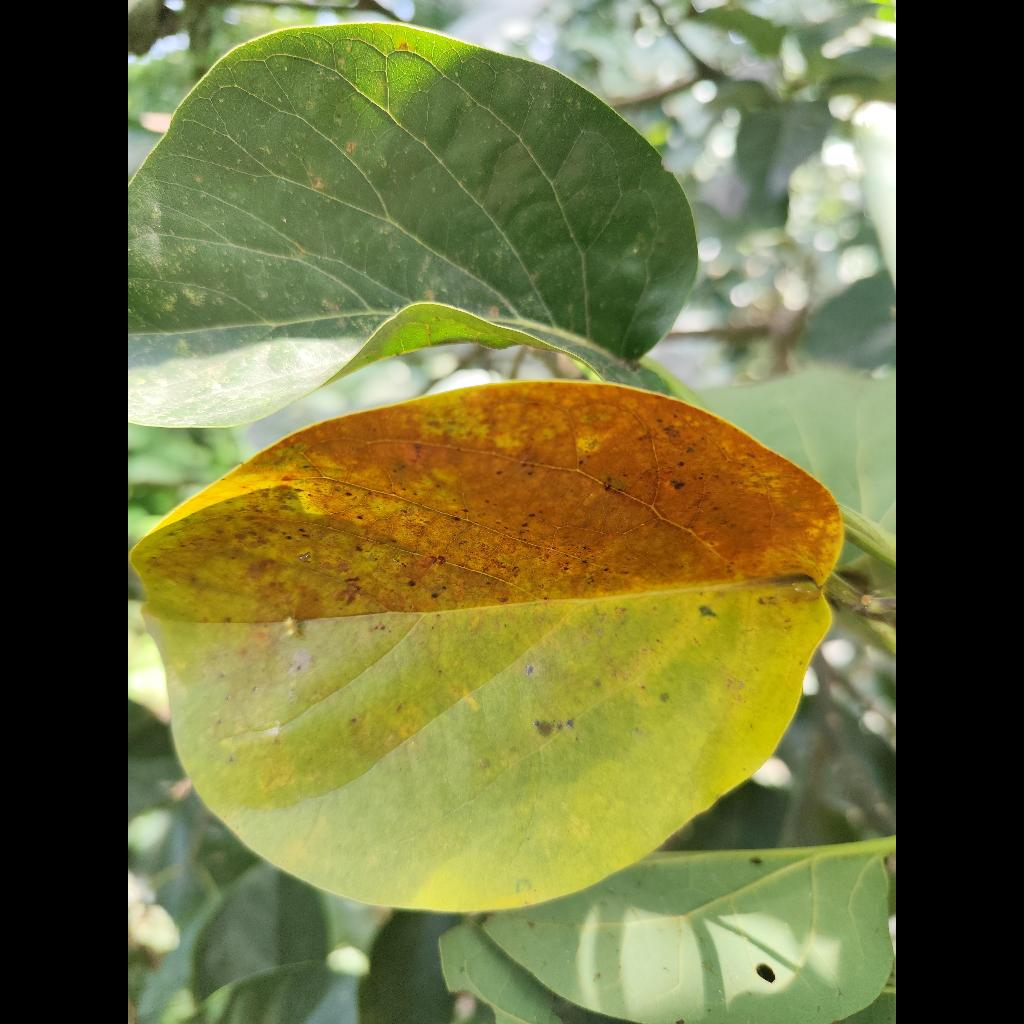deficiencia_nutricional: (135, 382, 840, 911)
